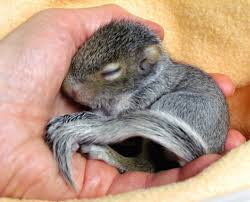Ardilla: (61, 18, 227, 169)
